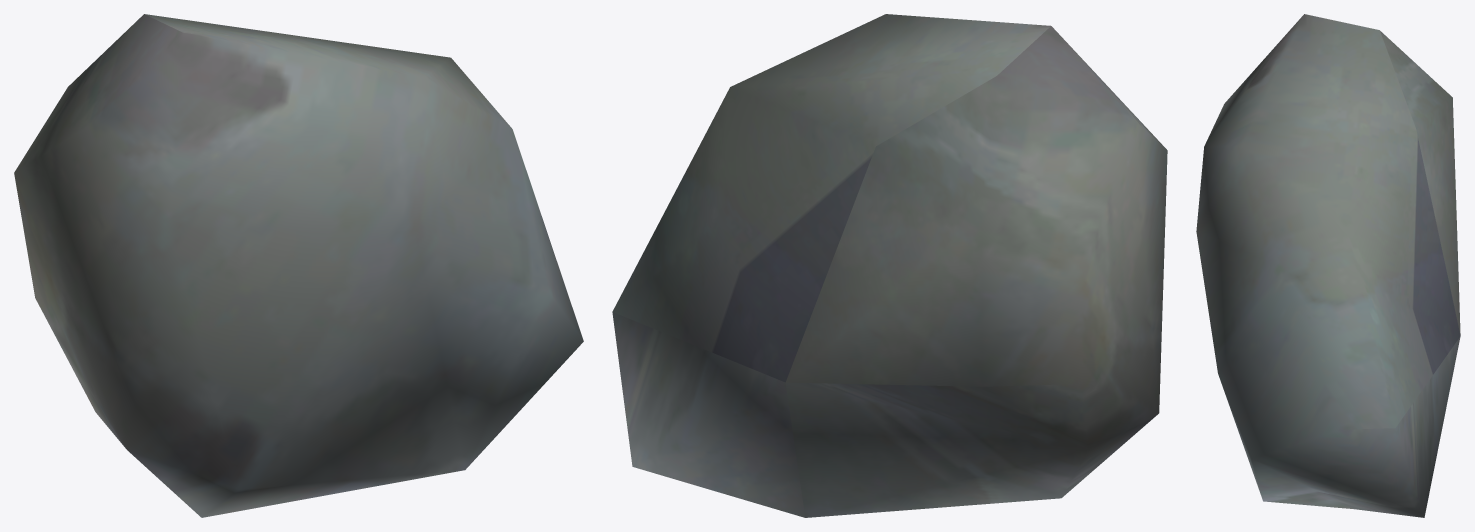
The model's file is Stages_MdSRock03.fbx.
The picture shows the model from 3 angles, left to right: view 1: azimuth 30°, elevation 25°; view 2: azimuth 150°, elevation 25°; view 3: azimuth 270°, elevation 25°; orthographic projection. The views are drawn at different scales.
Parts seen in each view (by area): view 1: Stages_MdSRock03_Vo; view 2: Stages_MdSRock03_Vo; view 3: Stages_MdSRock03_Vo.
Boxes of the visible parts, box(x1,y1,x2,y2) form: Stages_MdSRock03_Vo: box(14, 14, 583, 517); Stages_MdSRock03_Vo: box(612, 14, 1167, 517); Stages_MdSRock03_Vo: box(1196, 14, 1460, 517).
Bounding box in the file's own units: 4.46 × 4.28 × 2.61.
Materials: 1 (1 with a texture image).
